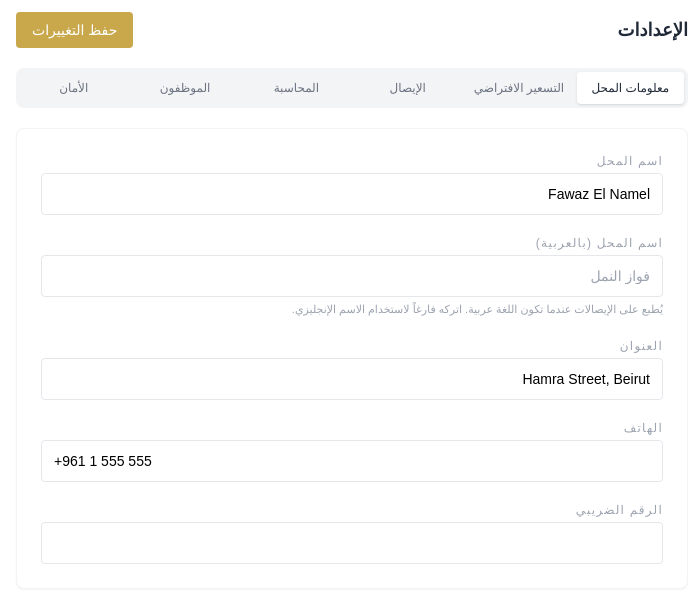
settings › Add Cashier says when it fails (NEX-64) › Arabic, when the connection drops: the translated failure
Click the button "الموظفون".
click(185, 88)  # box x1=131 y1=72 x2=239 y2=104
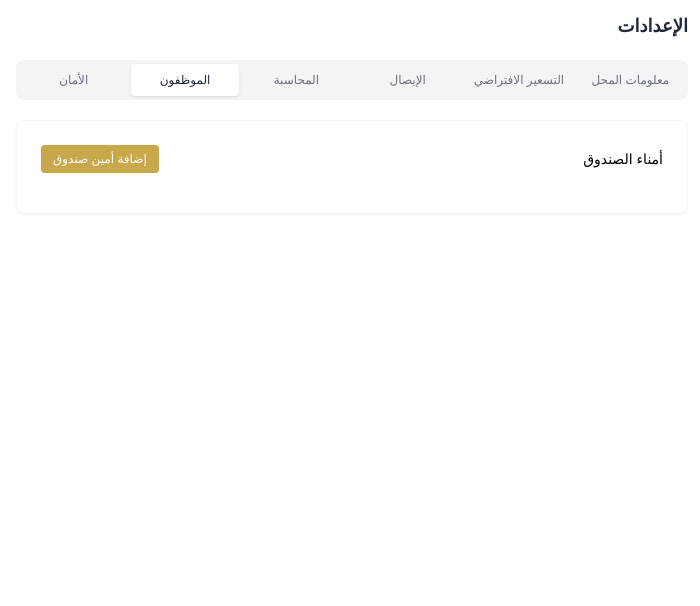
Click the button "إضافة أمين صندوق".
click(100, 159)  # box x1=41 y1=145 x2=159 y2=173
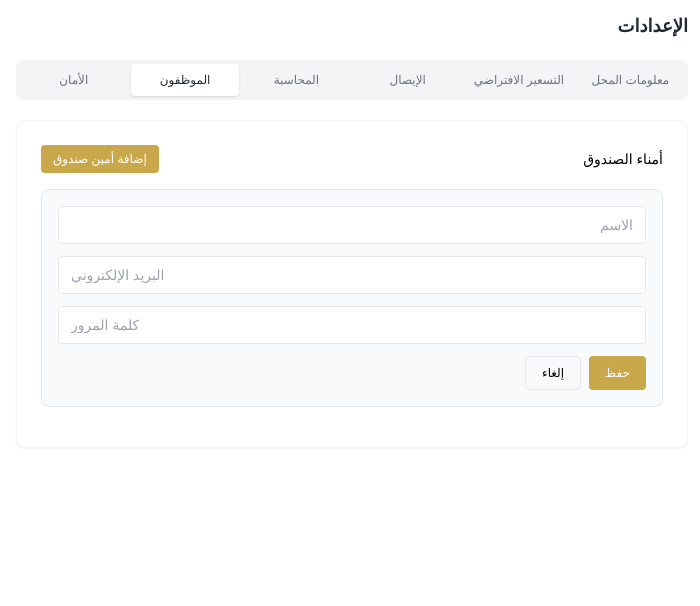
Type "Lina" into the field labelled "الاسم".
click(352, 225); type("Lina")  # box x1=58 y1=206 x2=646 y2=244
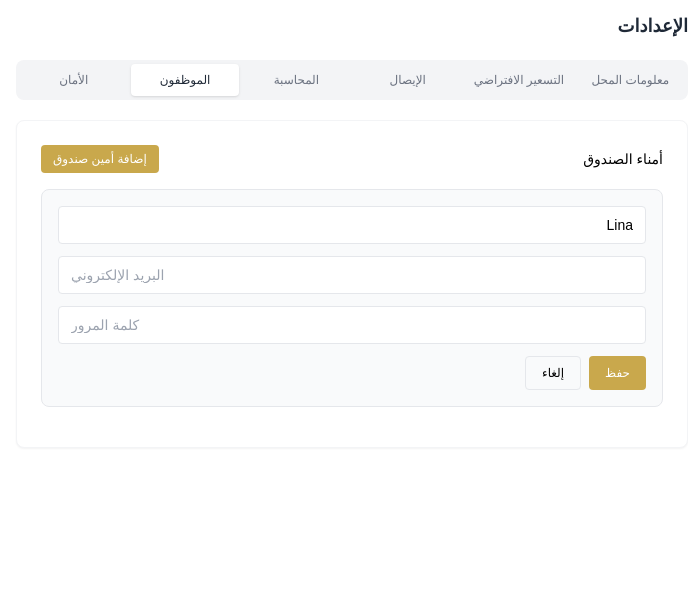
Type "lina@fawazelnamel.com" into the field labelled "البريد الإلكتروني".
click(352, 275); type("lina@fawazelnamel.com")  # box x1=58 y1=256 x2=646 y2=294
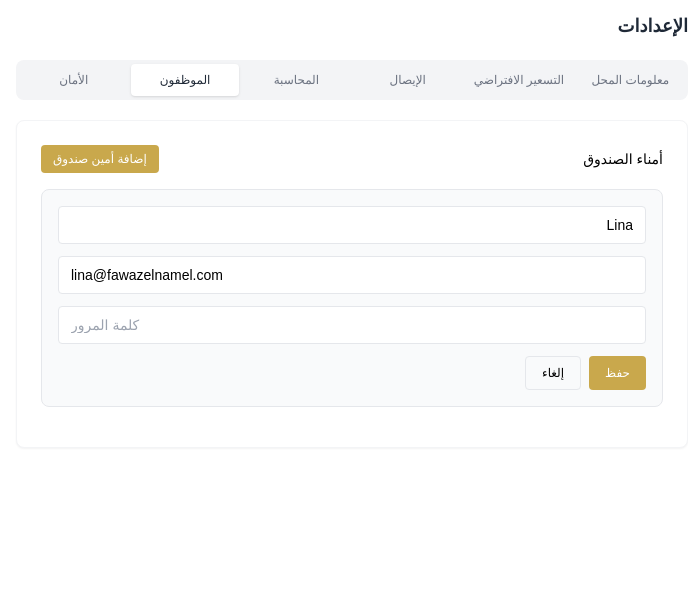
Type "s3cret-pass" into the password field labelled "كلمة المرور".
click(352, 325); type("s3cret-pass")  # box x1=58 y1=306 x2=646 y2=344
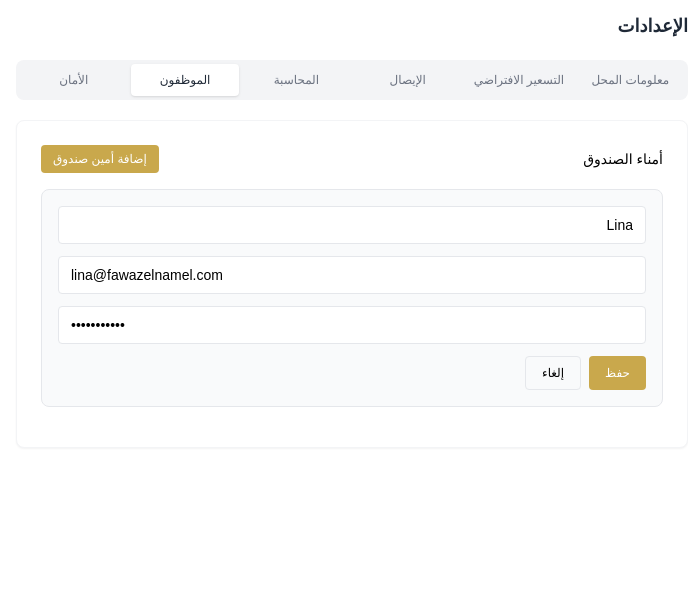
Click the button "حفظ".
click(618, 373)  # box x1=589 y1=356 x2=646 y2=390
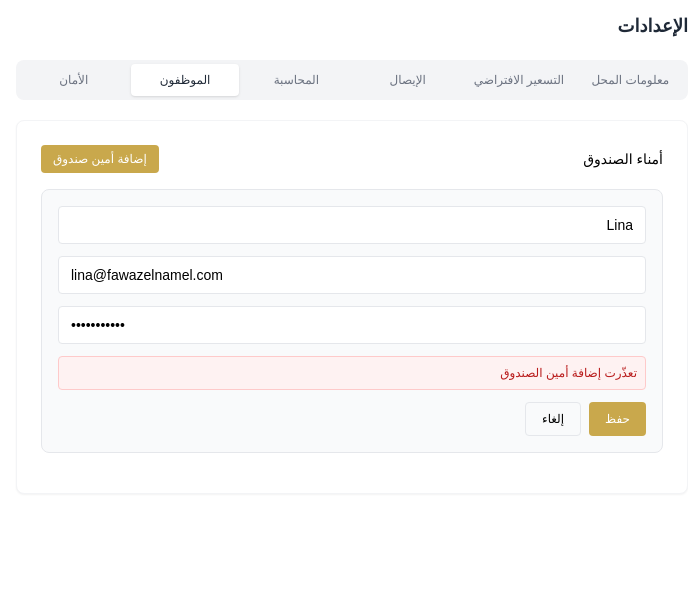
Result: the message reads "تعذّرت إضافة أمين الصندوق" at x1=500 y1=366 x2=637 y2=380
